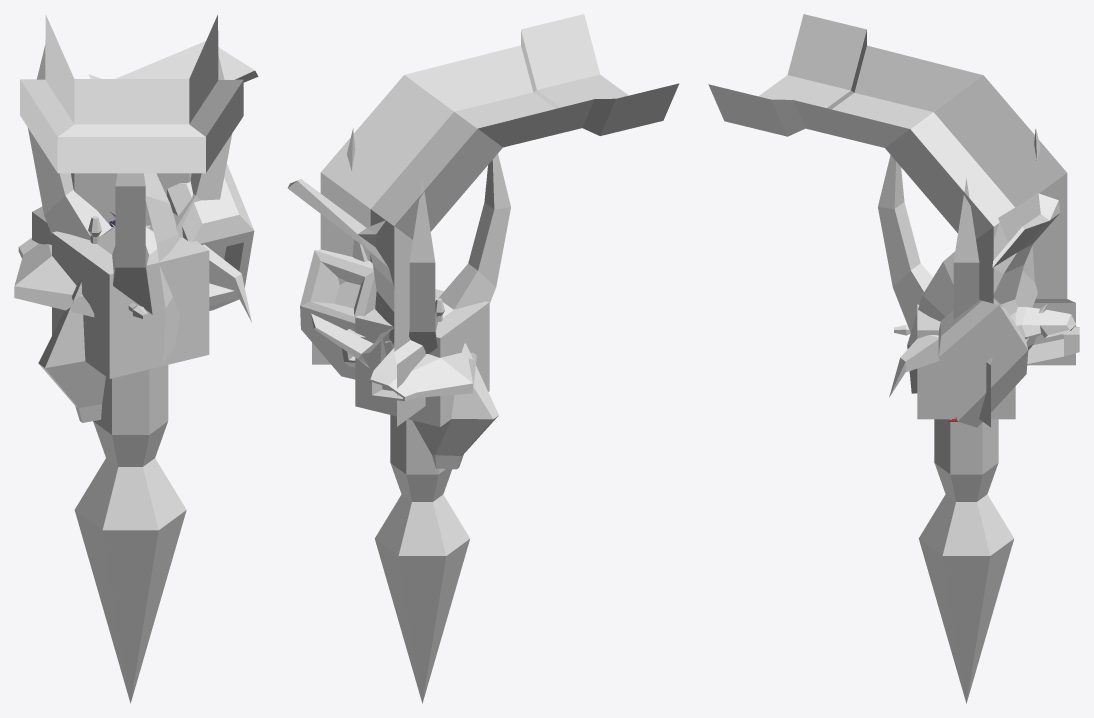
Rendered from ship.glb.
3 views of the same model, side by side, from view 1: azimuth 30°, elevation 25°; view 2: azimuth 150°, elevation 25°; view 3: azimuth 270°, elevation 25° (orthographic). The views are drawn at different scales.
Parts seen in each view (by area): view 1: Cylinder.001, Cylinder.003, Cylinder.008, Cube, Cylinder.005, Cylinder.010, sidewinder, Cylinder; view 2: Cylinder.001, Cylinder.003, Cylinder.008, Cylinder.005, Cube, Cylinder.010, sidewinder, dropship; view 3: Cylinder.001, Cylinder.005, Cylinder.003, Cylinder.008, Cube, dropship, Cylinder, sidewinder.
Boxes of the visible parts, box(x1,y1,x2,y2) form: Cylinder.001: box(20, 14, 243, 244); Cylinder.003: box(27, 45, 232, 466); Cylinder.008: box(74, 458, 186, 703); Cube: box(52, 225, 209, 378); Cylinder.005: box(88, 41, 258, 362); Cylinder.010: box(38, 216, 105, 422); sidewinder: box(14, 238, 148, 319); Cylinder: box(202, 244, 251, 322); Cylinder.001: box(312, 14, 679, 426); Cylinder.003: box(347, 128, 510, 501); Cylinder.008: box(374, 494, 470, 703); Cylinder.005: box(287, 179, 394, 379); Cube: box(355, 289, 489, 426); Cylinder.010: box(412, 298, 498, 469); sidewinder: box(370, 348, 476, 401); dropship: box(311, 313, 394, 368); Cylinder.001: box(708, 14, 1075, 427); Cylinder.005: box(907, 193, 1060, 427); Cylinder.003: box(878, 128, 1040, 501); Cylinder.008: box(918, 494, 1014, 703); Cube: box(917, 304, 1015, 419); dropship: box(1015, 307, 1076, 339); Cylinder: box(889, 303, 1047, 397); sidewinder: box(894, 325, 1079, 363).
Bounding box in the file's own units: 7 × 13.57 × 7.56.
Materials: 8 (1 with a texture image).
